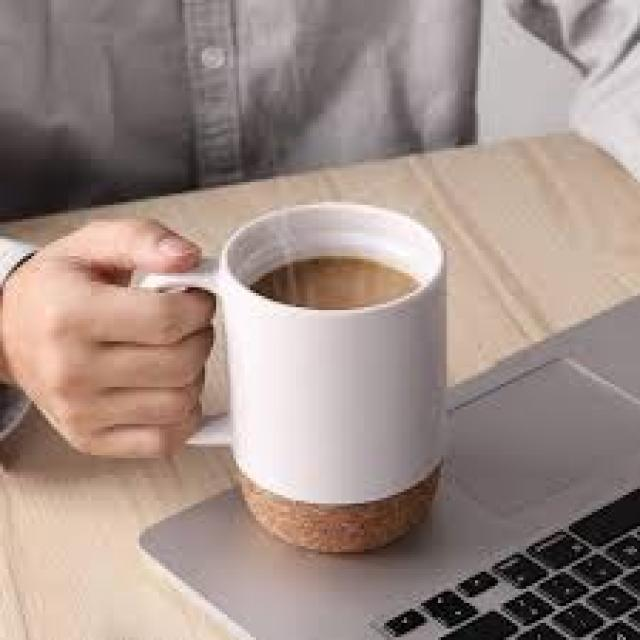taza: (126, 190, 458, 566)
